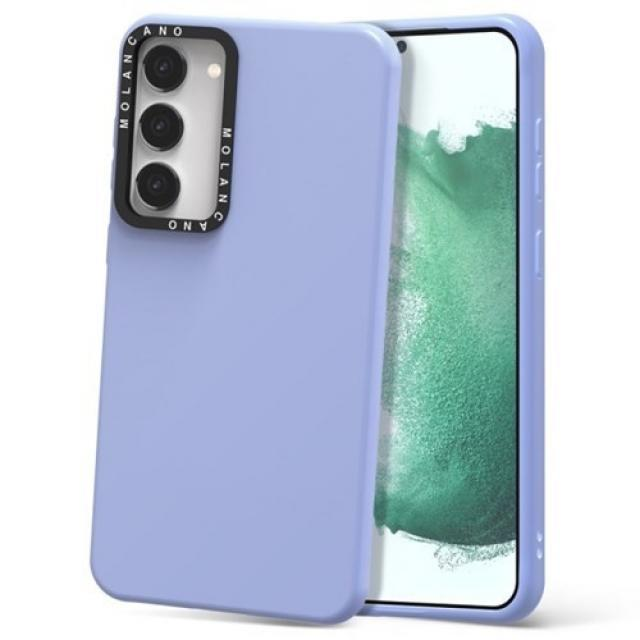phone: (91, 13, 402, 622)
